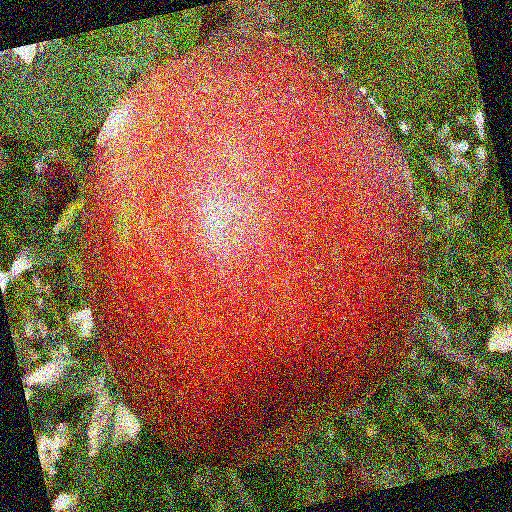fruit: (160, 227, 447, 512), (188, 236, 453, 512), (0, 70, 305, 297), (343, 81, 508, 418), (0, 57, 258, 230), (411, 211, 512, 471), (342, 0, 428, 21), (221, 0, 378, 4)
